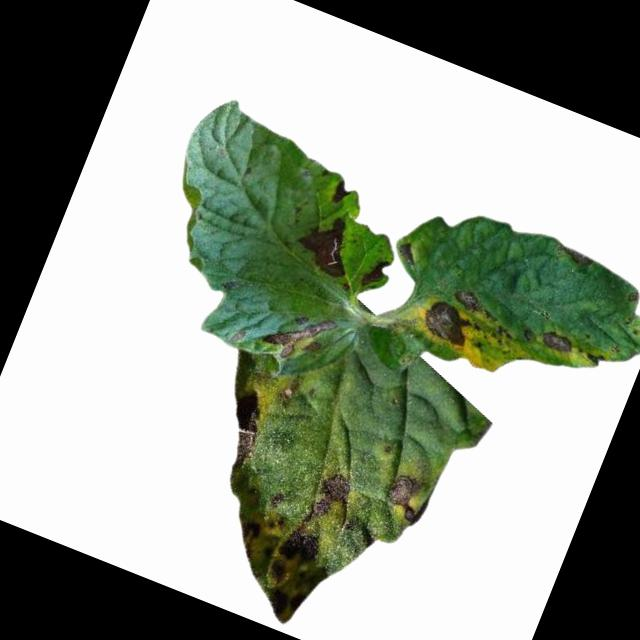Early_blight: (210, 518, 338, 632), (256, 292, 343, 372), (288, 206, 364, 282), (215, 390, 272, 478), (417, 296, 487, 354), (381, 466, 433, 525), (310, 467, 356, 526), (278, 520, 327, 568), (359, 253, 393, 295), (449, 281, 490, 314), (552, 240, 596, 268), (539, 326, 576, 357), (327, 178, 355, 209), (582, 346, 607, 368)
